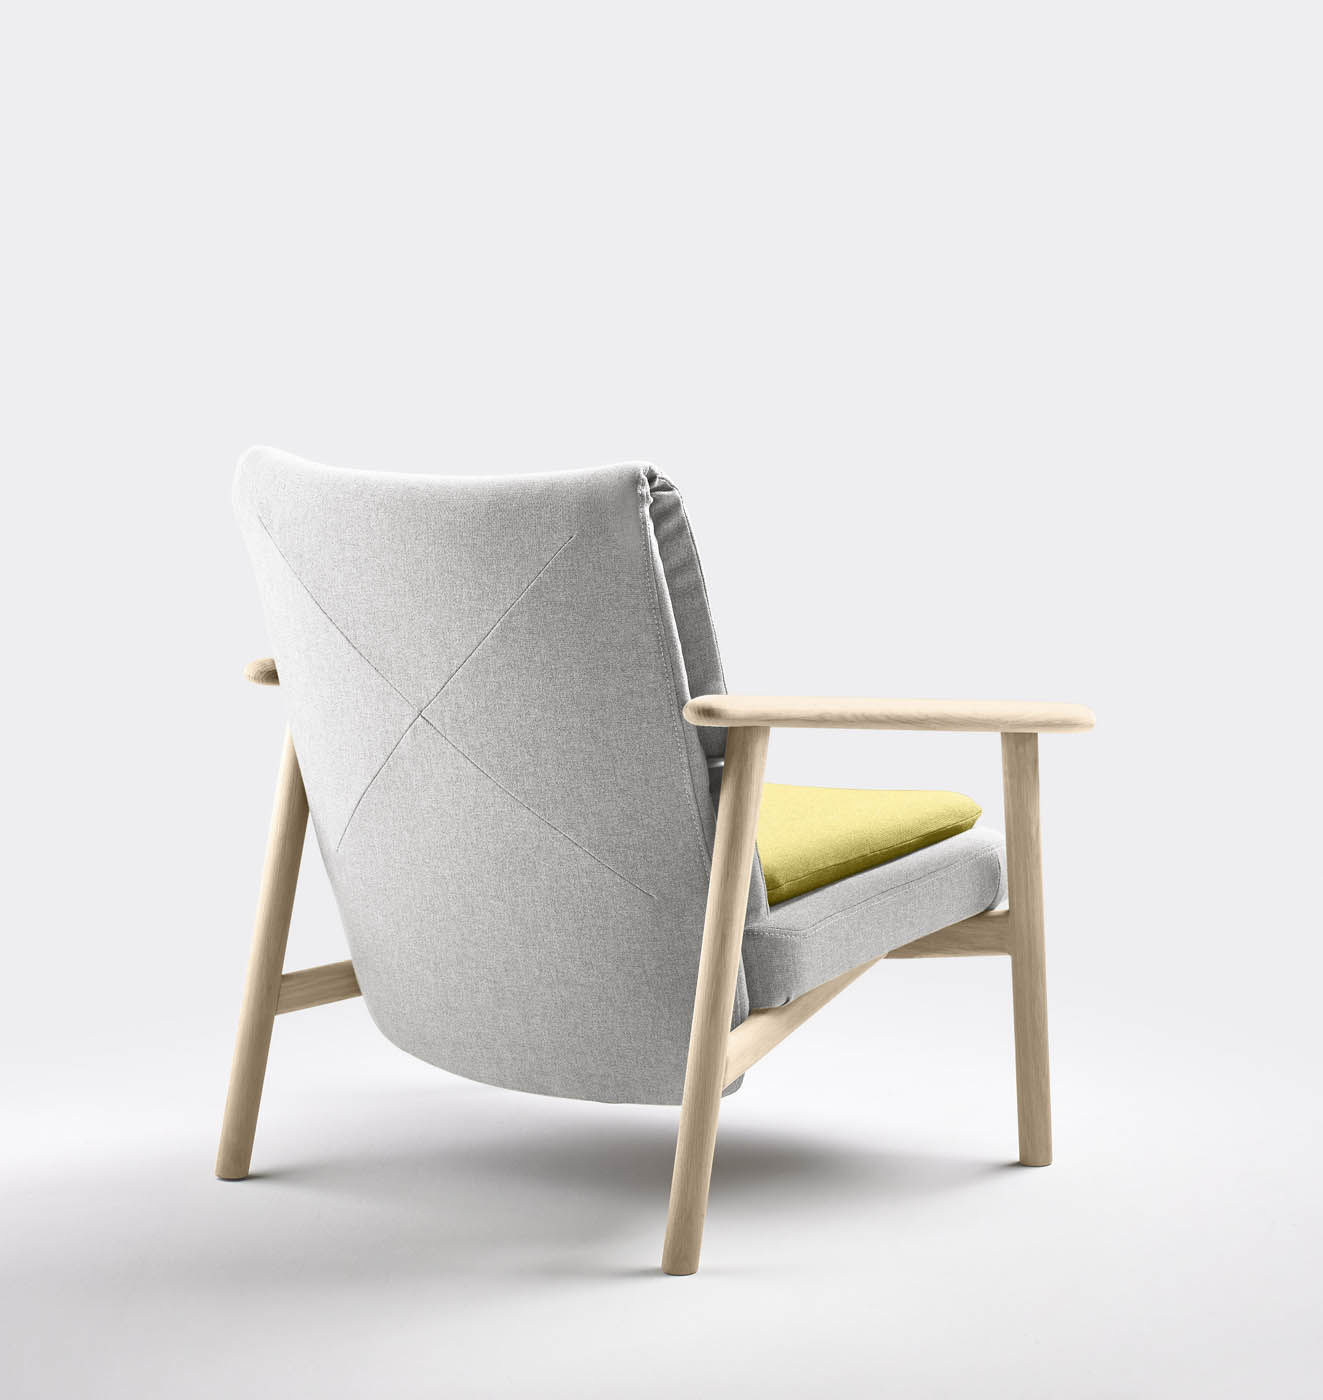chairs: (201, 431, 1098, 1291)
